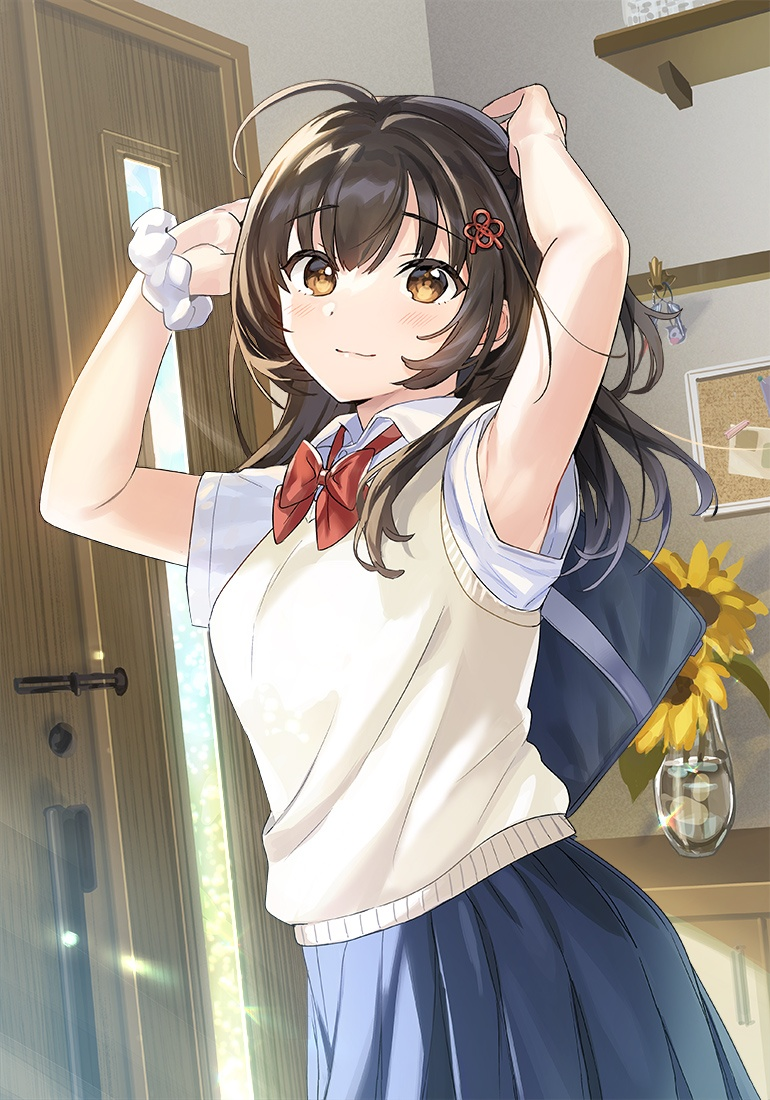纸片人正脸: (224, 85, 537, 415)
